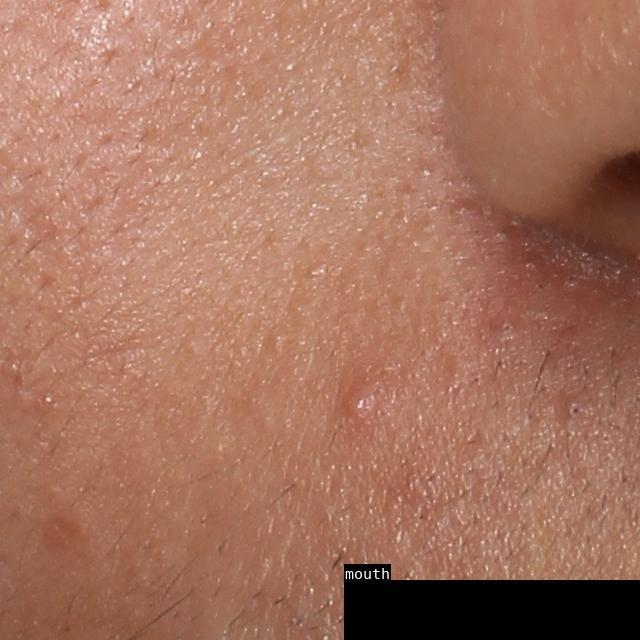comedo: (564, 398, 584, 421), (498, 319, 518, 339)
